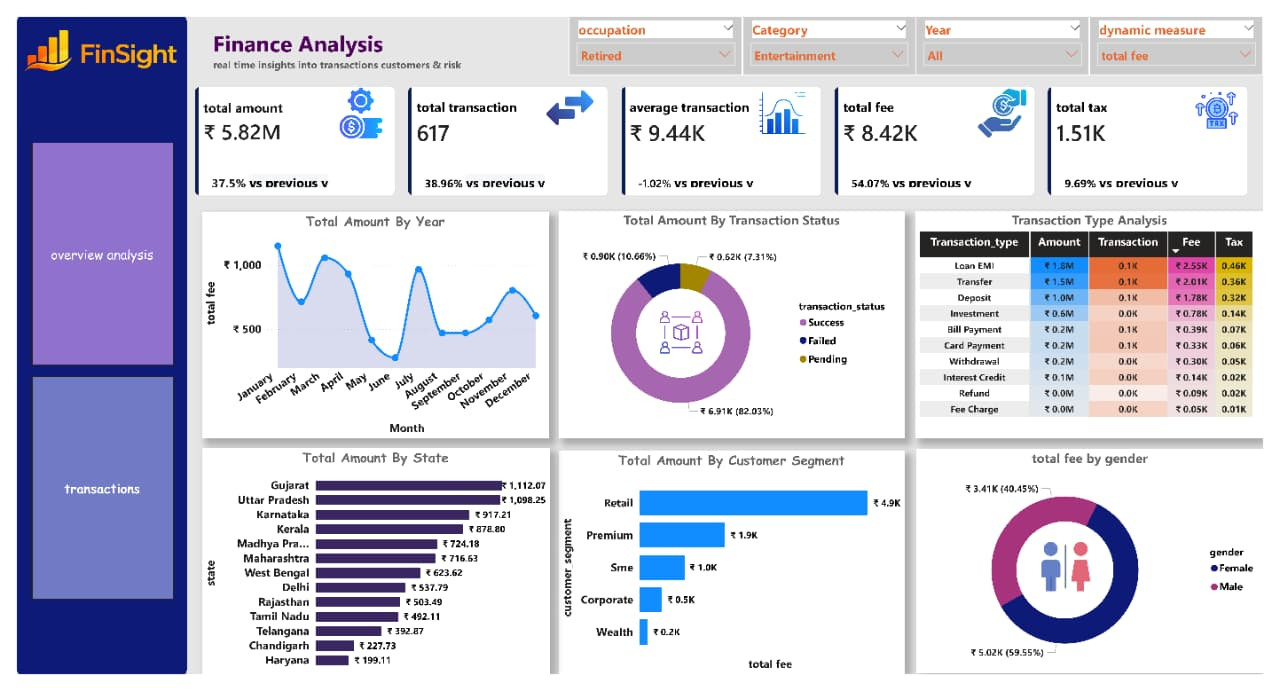

This screenshot's page, from the dashboard's own definition file:
{"tool":"powerbi","page":{"name":"overview analysis","canvas":[1800,950],"ordinal":0},"visuals":[{"type":"shape","box":[0,0,244.7,950.6],"z":0},{"type":"cardVisual","fields":{"Data":["finance_transactions.dashboard title"]},"box":[267,0,461.1,99.1],"z":1000},{"type":"cardVisual","fields":{"Data":["finance_transactions.total amount","calender table.total transaction","calender table.average transaction","calender table.total fee","calender table.total tax"]},"box":[250.8,97.1,1533,167.9],"z":2000},{"type":"slicer","fields":{"Values":["calender table.year"]},"box":[1298.4,0,250.8,84.9],"z":3000},{"type":"slicer","fields":{"Values":["dynamic measure.dynamic measure"]},"box":[1549.2,0,250.8,84.9],"z":4000},{"type":"areaChart","title":"Total Amount By Year","fields":{"Y":["calender table.total fee"],"Category":["calender table.Date.Variation.Date Hierarchy.Month"]},"box":[267.5,281.6,500.8,327.8],"z":5000},{"type":"donutChart","title":"Total Amount By Transaction Status","fields":{"Y":["calender table.total fee"],"Category":["finance_transactions.transaction_status"]},"box":[782.7,281.1,499.6,327.6],"z":7000},{"type":"image","box":[2,0,242.7,99.1],"z":8000},{"type":"image","box":[438.9,103.1,115,72.8],"z":9000},{"type":"image","box":[740.2,95.1,115.3,72.8],"z":10000},{"type":"image","box":[1047.6,105.2,115.3,68.8],"z":11000},{"type":"image","box":[1365.2,103.1,115.3,72.8],"z":12000},{"type":"image","box":[1674.6,99.1,115.3,72.8],"z":13000},{"type":"clusteredBarChart","title":"Total Amount By Customer Segment","fields":{"Y":["calender table.total fee"],"Category":["customers finance analysis.customer_segment"]},"box":[782.3,627.5,500,323],"z":14000},{"type":"clusteredBarChart","title":"Total Amount By State","fields":{"Y":["calender table.total fee"],"Category":["customers finance analysis.state"]},"box":[267,622.9,501.6,327.6],"z":15000},{"type":"tableEx","title":"Transaction Type Analysis","fields":{"Values":["finance_transactions.transaction_type","finance_transactions.total amount","calender table.total transaction","calender table.total fee","calender table.total tax"]},"box":[1298.4,281.1,501.6,327.6],"z":16000},{"type":"donutChart","fields":{"Y":["calender table.total fee"],"Category":["customers finance analysis.gender"]},"box":[1299.2,625.5,500.8,323.8],"z":17000},{"type":"image","box":[900,422.7,117.3,66.7],"z":18000},{"type":"image","box":[1446,754.2,136.8,80.4],"z":19000},{"type":"slicer","fields":{"Values":["customers finance analysis.occupation"]},"box":[796.9,0,250.8,84.9],"z":20000},{"type":"slicer","fields":{"Values":["finance_transactions.merchant_category"]},"box":[1047.6,0,250.8,84.9],"z":21000},{"type":"pageNavigator","box":[20.2,182,206.3,660],"z":22000}]}

Visuals, with their boxes in screenshot pixels (x1, y1, x2, y2), scaled from the page's 1800x950 canvas onto the 1280x691 screenshot:
shape: x1=0, y1=0, x2=174, y2=690
cardVisual - finance_transactions.dashboard title: x1=190, y1=0, x2=518, y2=72
cardVisual - finance_transactions.total amount x calender table.total transaction: x1=178, y1=71, x2=1268, y2=193
slicer - calender table.year: x1=923, y1=0, x2=1102, y2=62
slicer - dynamic measure.dynamic measure: x1=1102, y1=0, x2=1279, y2=62
"Total Amount By Year" areaChart: x1=190, y1=205, x2=546, y2=443
"Total Amount By Transaction Status" donutChart: x1=557, y1=204, x2=912, y2=443
image: x1=1, y1=0, x2=174, y2=72
image: x1=312, y1=75, x2=394, y2=128
image: x1=526, y1=69, x2=608, y2=122
image: x1=745, y1=77, x2=827, y2=127
image: x1=971, y1=75, x2=1053, y2=128
image: x1=1191, y1=72, x2=1273, y2=125
"Total Amount By Customer Segment" clusteredBarChart: x1=556, y1=456, x2=912, y2=690
"Total Amount By State" clusteredBarChart: x1=190, y1=453, x2=547, y2=690
"Transaction Type Analysis" tableEx: x1=923, y1=204, x2=1279, y2=443
donutChart - calender table.total fee x customers finance analysis.gender: x1=924, y1=455, x2=1279, y2=690
image: x1=640, y1=307, x2=723, y2=356
image: x1=1028, y1=549, x2=1126, y2=607
slicer - customers finance analysis.occupation: x1=567, y1=0, x2=745, y2=62
slicer - finance_transactions.merchant_category: x1=745, y1=0, x2=923, y2=62
pageNavigator: x1=14, y1=132, x2=161, y2=612
